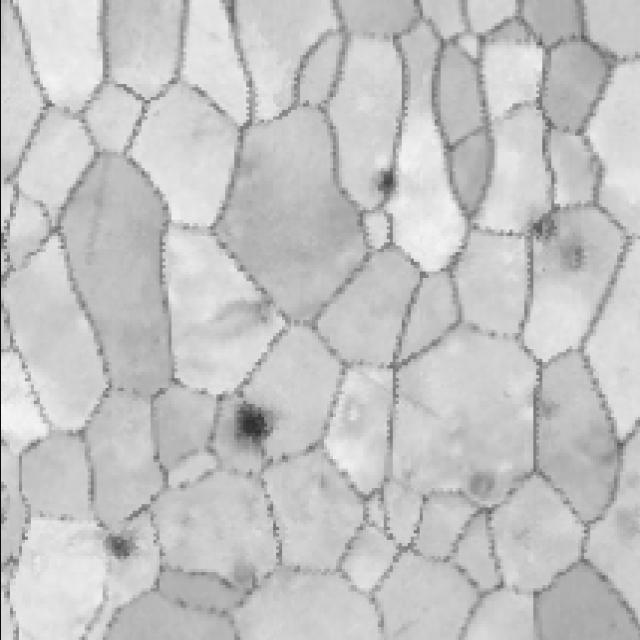good_void: (202, 292, 272, 348), (227, 396, 282, 455), (219, 555, 260, 616), (94, 523, 140, 569), (522, 207, 560, 251), (460, 467, 502, 506), (552, 233, 589, 274), (370, 166, 402, 203)
